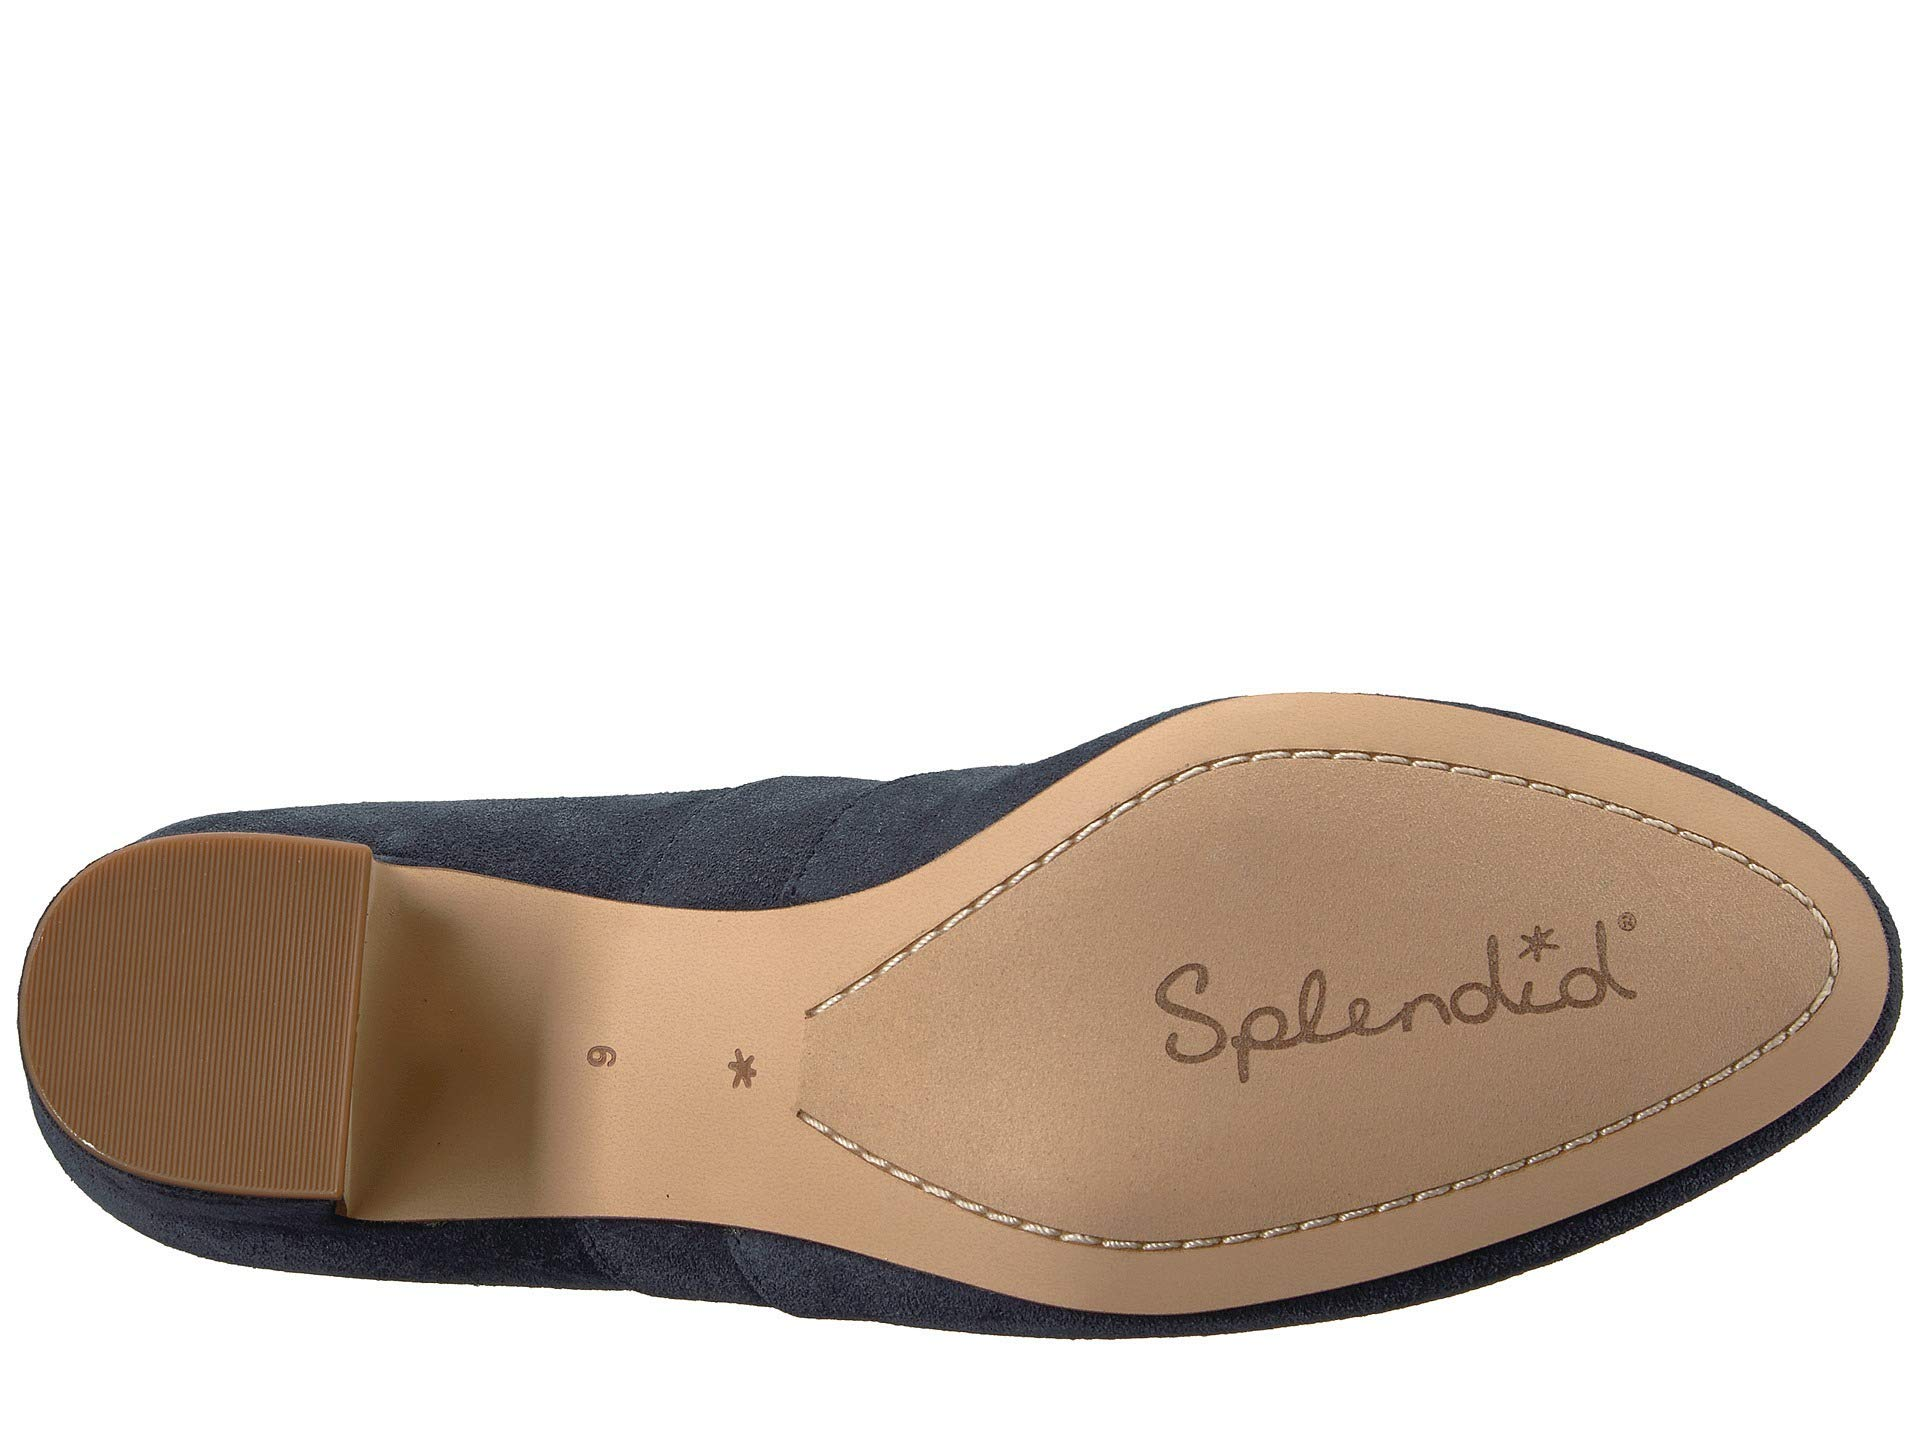circle: (1152, 771, 1668, 1203)
star: (1152, 771, 1668, 1203)
text: (1152, 771, 1668, 1203)
